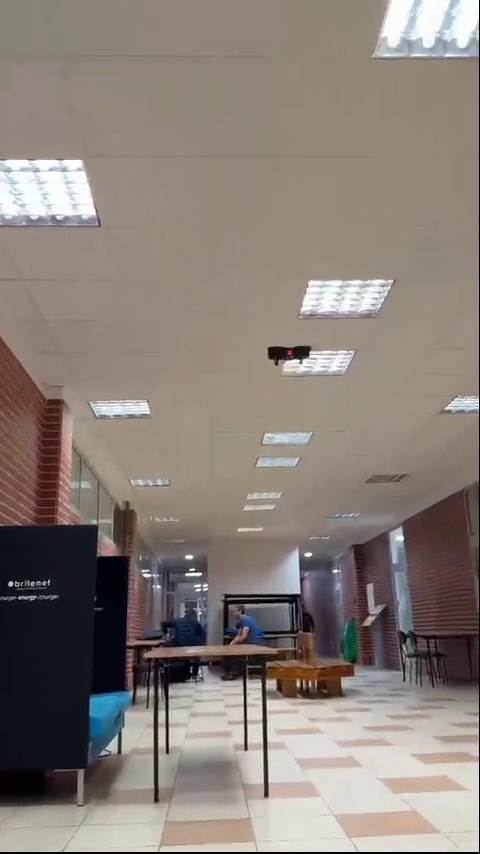drone: (267, 345, 310, 369)
no vest: (165, 599, 209, 647), (227, 607, 271, 653)
